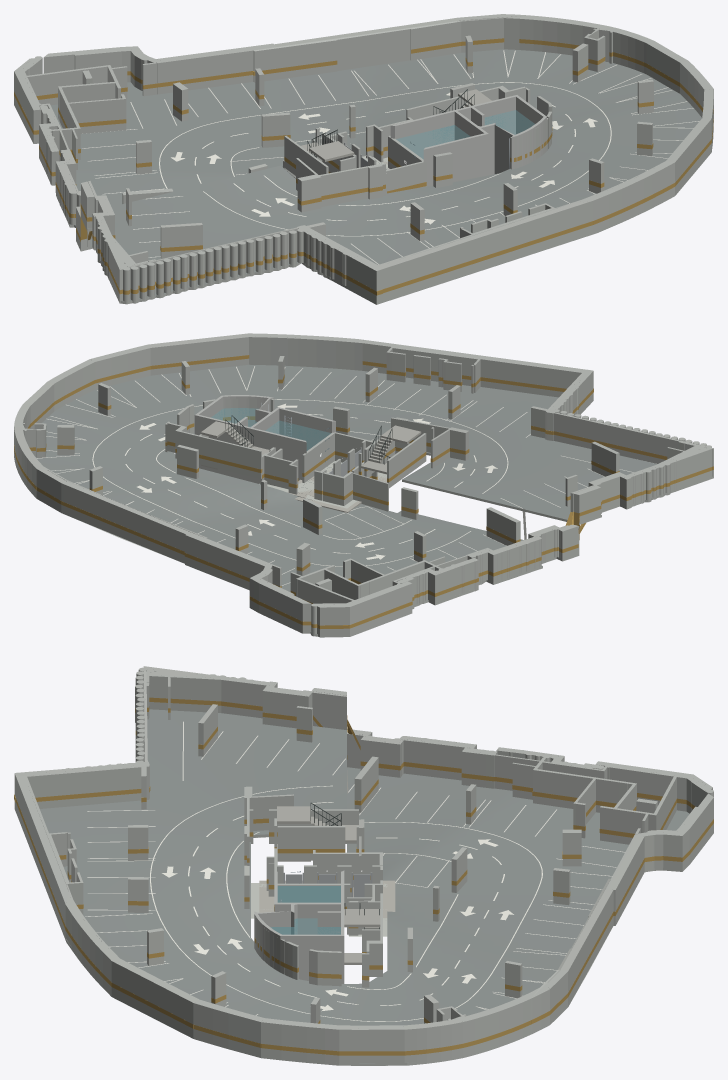
File: B03-overview.glb
3 views of the same model, one above another, from view 1: azimuth 30°, elevation 25°; view 2: azimuth 150°, elevation 25°; view 3: azimuth 270°, elevation 25° (orthographic). The views are drawn at different scales.
Visible parts, largest first — view 1: SOURCE GRADES | north floor, SOURCE GRADES | south floor, SOURCE WALL | 116, SOURCE WALL | 122, SOURCE WALL | 492, SOURCE WALL | 123, SOURCE WALL | 497, SOURCE WALL | 108, SOURCE FOOTPRINT | reservoir wall.006, SOURCE FOOTPRINT | reservoir wall.002, SOURCE WALL | 496, SOURCE WALL | 664 (+44 smaller); view 2: SOURCE GRADES | south floor, SOURCE GRADES | north floor, SOURCE WALL | 119, SOURCE WALL | 505, SOURCE WALL | 816, SOURCE WALL | 496, SOURCE WALL | 117, SOURCE WALL | 120, SOURCE WALL | 442, SOURCE WALL | 495, SOURCE WALL | 40, SOURCE WALL | 439 (+42 smaller); view 3: SOURCE GRADES | south floor, SOURCE GRADES | north floor, SOURCE WALL | 115, SOURCE WALL | 492, SOURCE WALL | 496, SOURCE WALL | 494, SOURCE WALL | 116, SOURCE WALL | 495, SOURCE WALL | 23.001, SOURCE WALL | 782, SOURCE WALL | 119, SOURCE WALL | 497 (+35 smaller).
Part boxes in pixels (left/top/right/bottom): SOURCE GRADES | north floor: left=47, top=49, right=675, bottom=246; SOURCE GRADES | south floor: left=87, top=91, right=701, bottom=301; SOURCE WALL | 116: left=378, top=200, right=593, bottom=300; SOURCE WALL | 122: left=253, top=21, right=461, bottom=82; SOURCE WALL | 492: left=494, top=14, right=608, bottom=55; SOURCE WALL | 123: left=156, top=46, right=275, bottom=94; SOURCE WALL | 497: left=574, top=161, right=674, bottom=231; SOURCE WALL | 108: left=296, top=225, right=382, bottom=302; SOURCE FOOTPRINT | reservoir wall.006: left=423, top=133, right=488, bottom=186; SOURCE FOOTPRINT | reservoir wall.002: left=390, top=111, right=454, bottom=159; SOURCE WALL | 496: left=666, top=118, right=711, bottom=193; SOURCE WALL | 664: left=24, top=65, right=107, bottom=105; SOURCE GRADES | south floor: left=52, top=364, right=665, bottom=519; SOURCE GRADES | north floor: left=14, top=414, right=558, bottom=634; SOURCE WALL | 119: left=61, top=481, right=190, bottom=561; SOURCE WALL | 505: left=248, top=336, right=366, bottom=370; SOURCE WALL | 816: left=554, top=412, right=705, bottom=463; SOURCE WALL | 496: left=148, top=333, right=248, bottom=375; SOURCE WALL | 117: left=480, top=358, right=584, bottom=397; SOURCE WALL | 120: left=185, top=533, right=266, bottom=587; SOURCE WALL | 442: left=339, top=581, right=412, bottom=634; SOURCE WALL | 495: left=90, top=344, right=150, bottom=389; SOURCE WALL | 40: left=202, top=436, right=261, bottom=479; SOURCE WALL | 439: left=259, top=581, right=311, bottom=631; SOURCE GRADES | south floor: left=40, top=709, right=346, bottom=1025; SOURCE GRADES | north floor: left=347, top=767, right=689, bottom=1063; SOURCE WALL | 115: left=27, top=765, right=149, bottom=808; SOURCE WALL | 492: left=458, top=984, right=549, bottom=1055; SOURCE WALL | 496: left=111, top=958, right=199, bottom=1035; SOURCE WALL | 494: left=261, top=1018, right=339, bottom=1062; SOURCE WALL | 116: left=16, top=776, right=68, bottom=936; SOURCE WALL | 495: left=193, top=1000, right=264, bottom=1055; SOURCE WALL | 23.001: left=533, top=768, right=619, bottom=812; SOURCE WALL | 782: left=149, top=675, right=221, bottom=712; SOURCE WALL | 119: left=560, top=889, right=613, bottom=1004; SOURCE WALL | 497: left=65, top=894, right=118, bottom=993.
Size of what is drawn, in the model's own units: 59.72 by 7.55 by 51.44.
